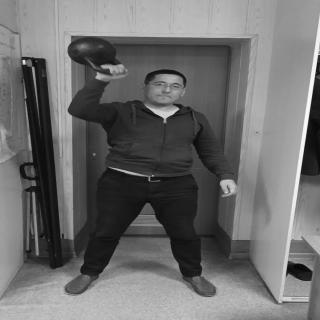kettlebell: (70, 39, 129, 76)
